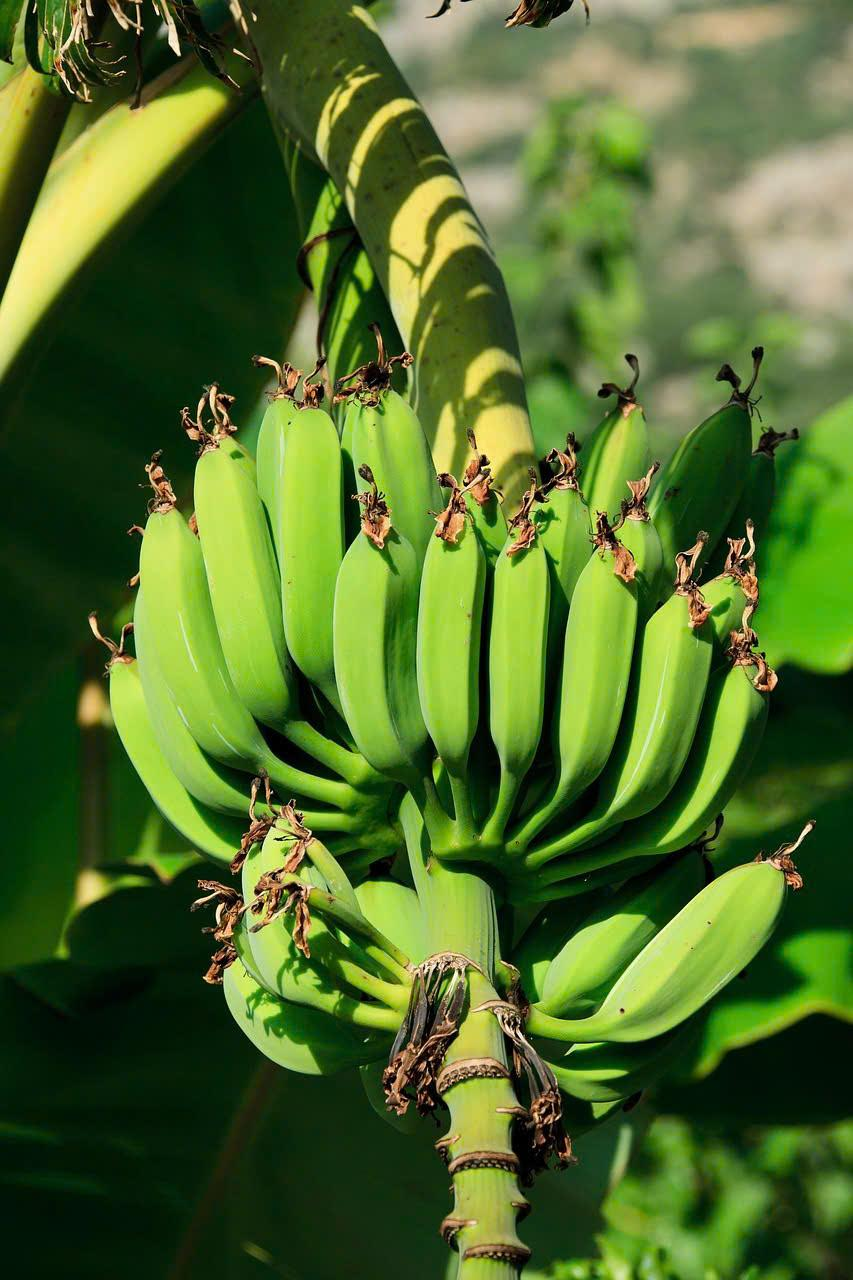banana: (40, 260, 853, 1120), (337, 450, 767, 845)
